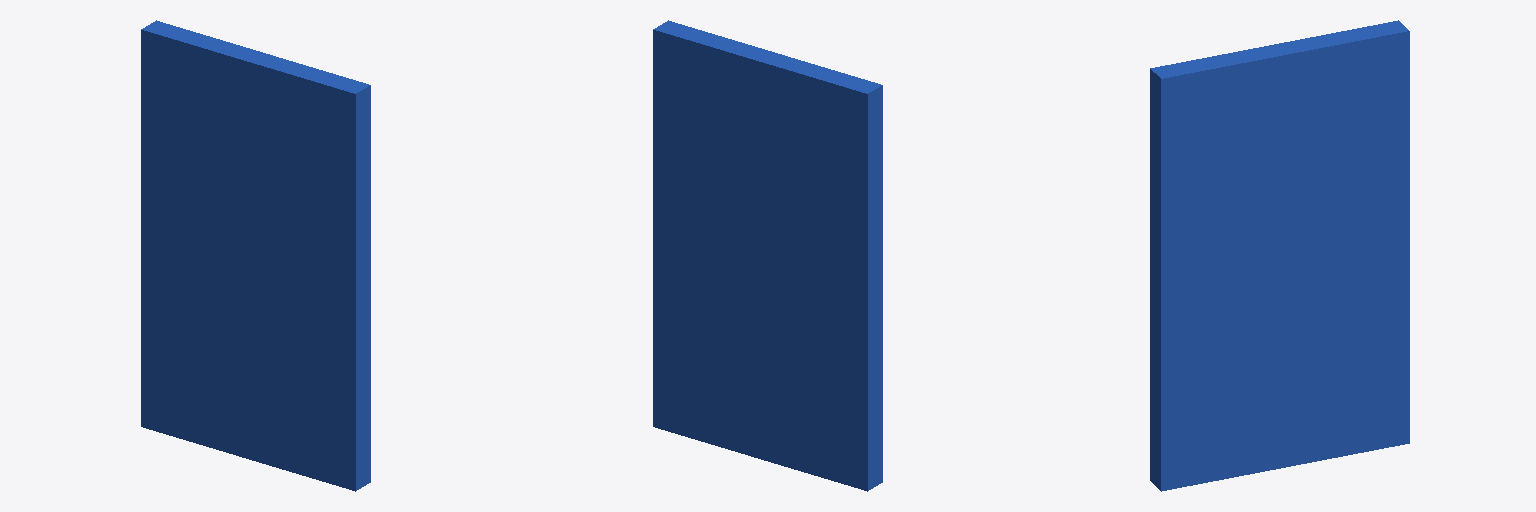
URDF robot description (Domino_17):
<robot name="Domino_17" version="1.0">
  <link name="Domino_17_link">
    <collision name="Cube.016_collision">
      <origin rpy="0.00000 0.00000 1.47573" xyz="-0.87217 0.96764 0.25000"/>
      <geometry>
        <box size="0.27481 0.17598 0.50000"/>
      </geometry>
    </collision>
    <inertial>
      <inertia ixx="0.00271" ixy="0.00028" ixz="-0.00000" iyy="0.00222" iyz="0.00000" izz="0.00076"/>
      <origin rpy="0.00000 0.00000 0.00000" xyz="-0.87217 0.96764 0.25000"/>
      <mass value="0.10000"/>
    </inertial>
    <visual name="Cube.016">
      <material name="turnarrow"/>
      <origin rpy="0.00000 0.00000 1.47573" xyz="-0.87217 0.96764 0.25000"/>
      <geometry>
        <mesh filename="../meshes/obj/Cube.013.obj" scale="0.96309 0.86937 1.13774"/>
      </geometry>
    </visual>
  </link>
  <material name="turnarrow">
    <color rgba="0.23137 0.44706 0.80000 1.00000"/>
  </material>
</robot>

--- What the picture shows (computed from the rendered views, not written in the file) ---
Views: 3 orthographic renders of the robot side by side, from view 1: azimuth 30°, elevation 25°; view 2: azimuth 210°, elevation 25°; view 3: azimuth 270°, elevation 25°.
Robot: Domino_17 — 1 links, 0 joints (none); root link Domino_17_link; default pose: every joint at zero.
Links seen in each view (by area): view 1: Domino_17_link; view 2: Domino_17_link; view 3: Domino_17_link.
Link boxes in pixels (box(x1,y1,x2,y2)): Domino_17_link: box(141, 20, 370, 491); Domino_17_link: box(653, 20, 882, 491); Domino_17_link: box(1150, 20, 1409, 491).
Size in the robot's own frame: 0.1519 by 0.2853 by 0.5 metres.
Meshes: 1 distinct files referenced, 1 mesh visuals loaded (1 OBJ).